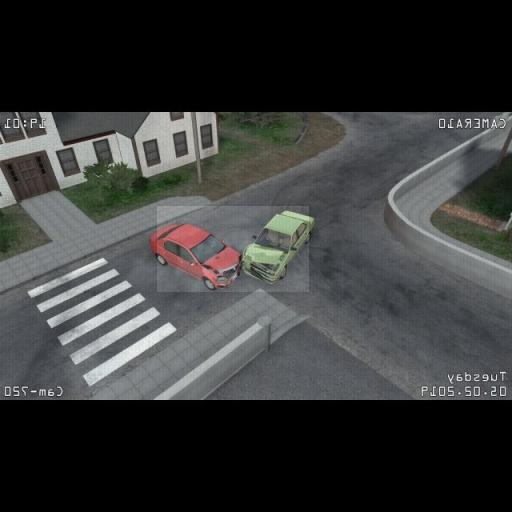小汽车: (157, 206, 309, 292)
